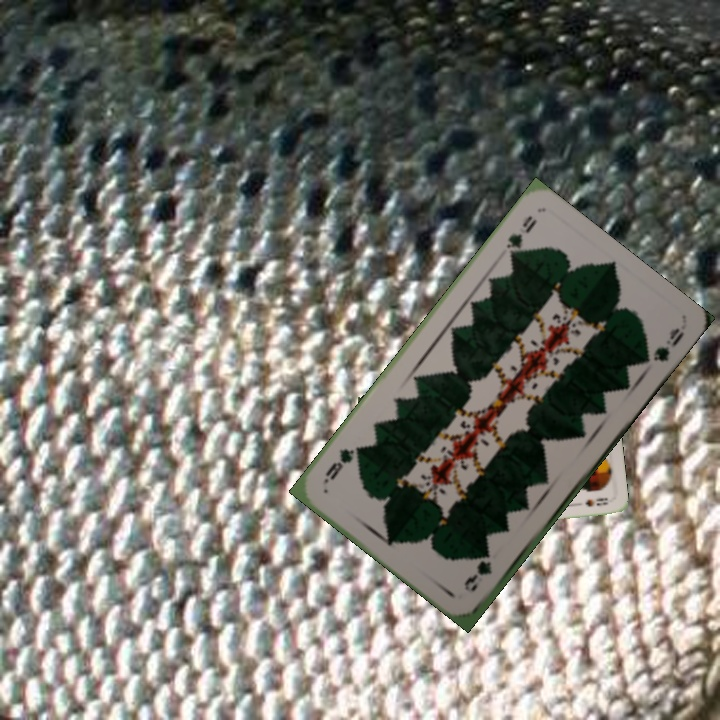G9: (502, 211, 540, 263), (460, 557, 495, 595)
